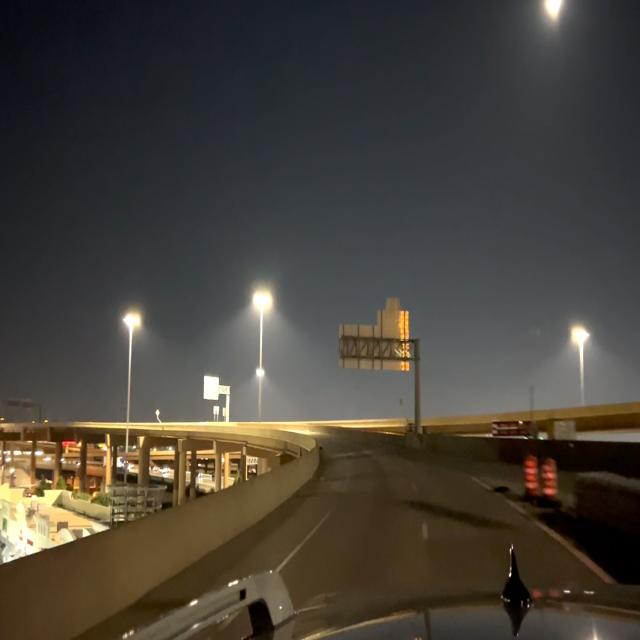back-of-sign: (339, 325, 409, 369), (376, 297, 408, 326)
